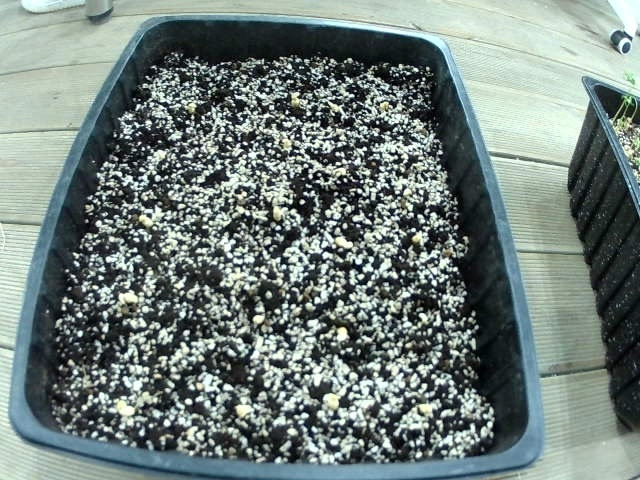발아기: (161, 77, 215, 125), (112, 389, 160, 436), (261, 79, 311, 119), (244, 301, 290, 339), (127, 195, 163, 242), (326, 224, 369, 262), (402, 384, 442, 422), (110, 281, 146, 321), (363, 95, 402, 127), (263, 202, 297, 235), (274, 137, 303, 171), (239, 391, 270, 420), (403, 223, 435, 251), (328, 312, 351, 348), (398, 179, 427, 204), (319, 385, 340, 407)
